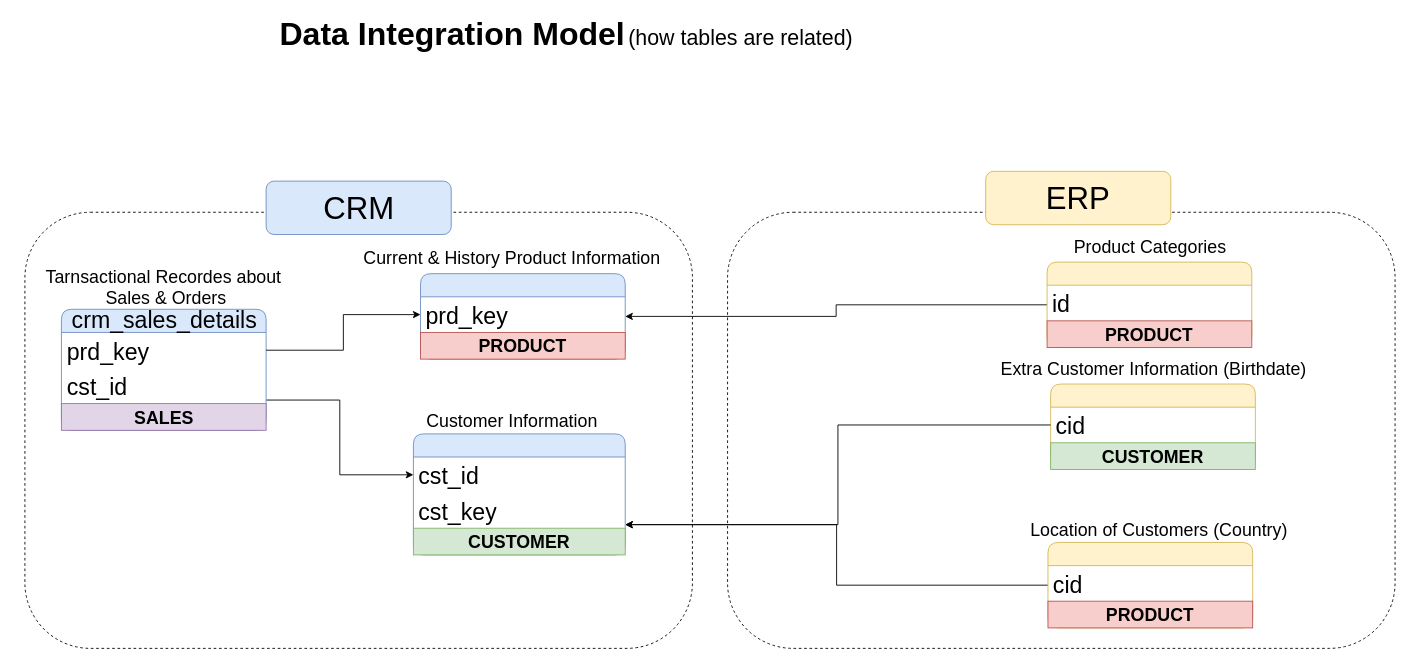
This 1411x664 diagram has some shape labels left out. Each missing label, with the box of its shape:
crm_cust_info: (413, 433, 625, 555)
crm_prd_info: (420, 273, 625, 359)
erp_cust_az12: (1050, 383, 1255, 469)
erp_loc_a101: (1047, 542, 1253, 628)
erp_px_cat_giv2: (1046, 261, 1252, 348)
